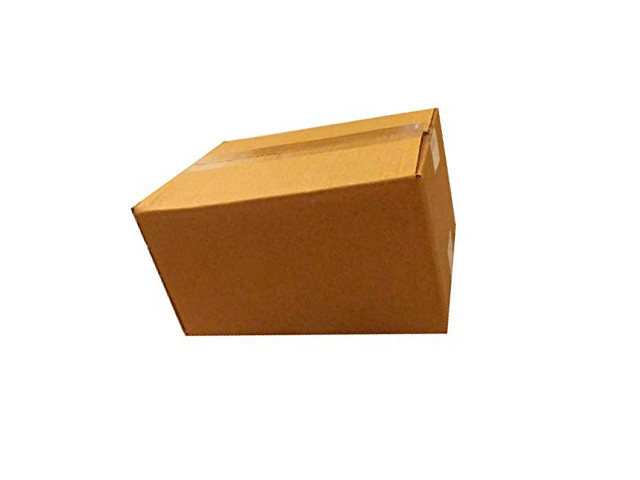cardboard: (131, 106, 455, 334)
